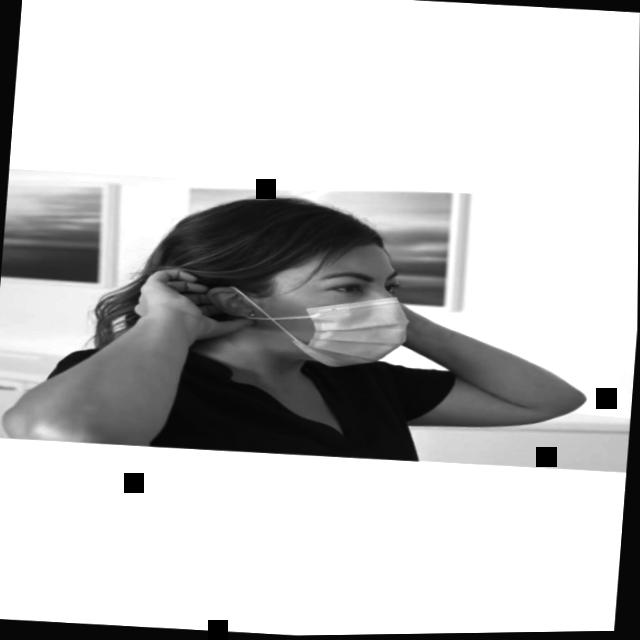Mask: (231, 222, 423, 374)
